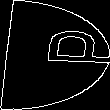P_W: (5, 35, 105, 75)
